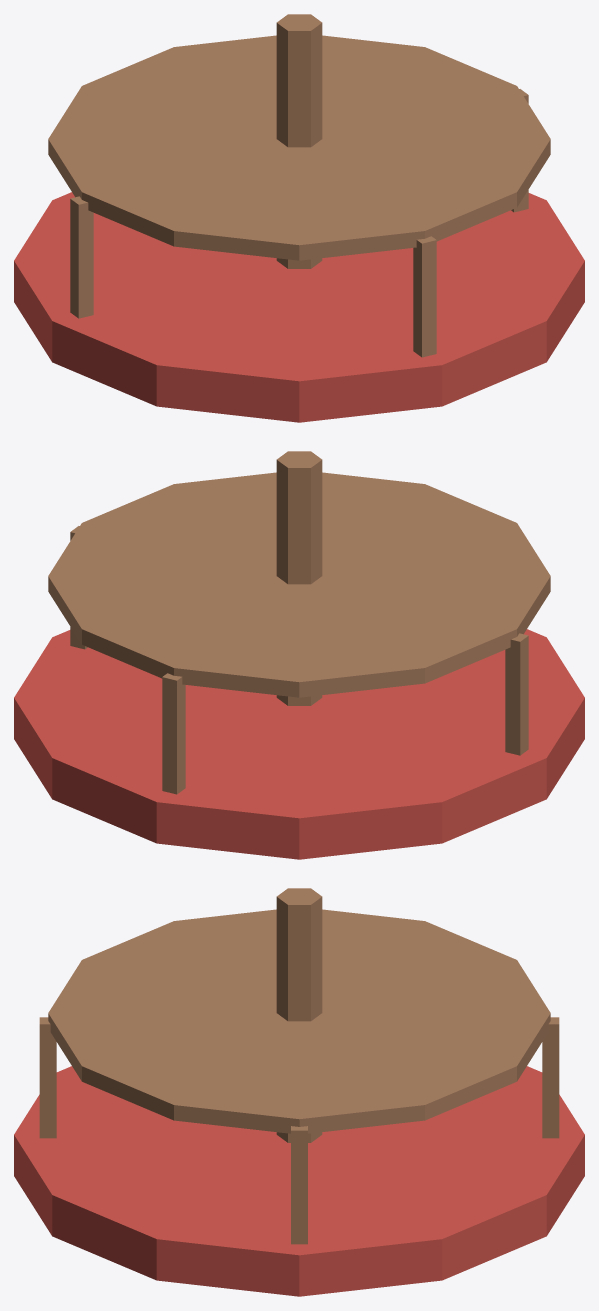
File: SM_Carousel.fbx
The picture shows the model from 3 angles, top to bottom: view 1: azimuth 30°, elevation 25°; view 2: azimuth 150°, elevation 25°; view 3: azimuth 270°, elevation 25°; orthographic projection.
Parts seen in each view (by area): view 1: SM_Carousel; view 2: SM_Carousel; view 3: SM_Carousel.
Boxes of the visible parts, x1,y1,x2,y2 form: SM_Carousel: (14,14,584,422); SM_Carousel: (14,451,584,859); SM_Carousel: (14,888,584,1296).
Size of the model in its own units: 1000 by 540 by 1000.
